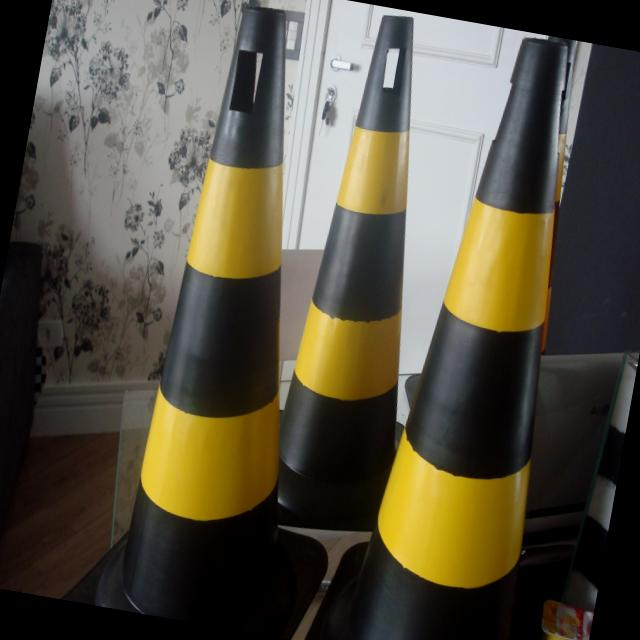cone: (87, 0, 347, 619), (358, 27, 605, 640)
